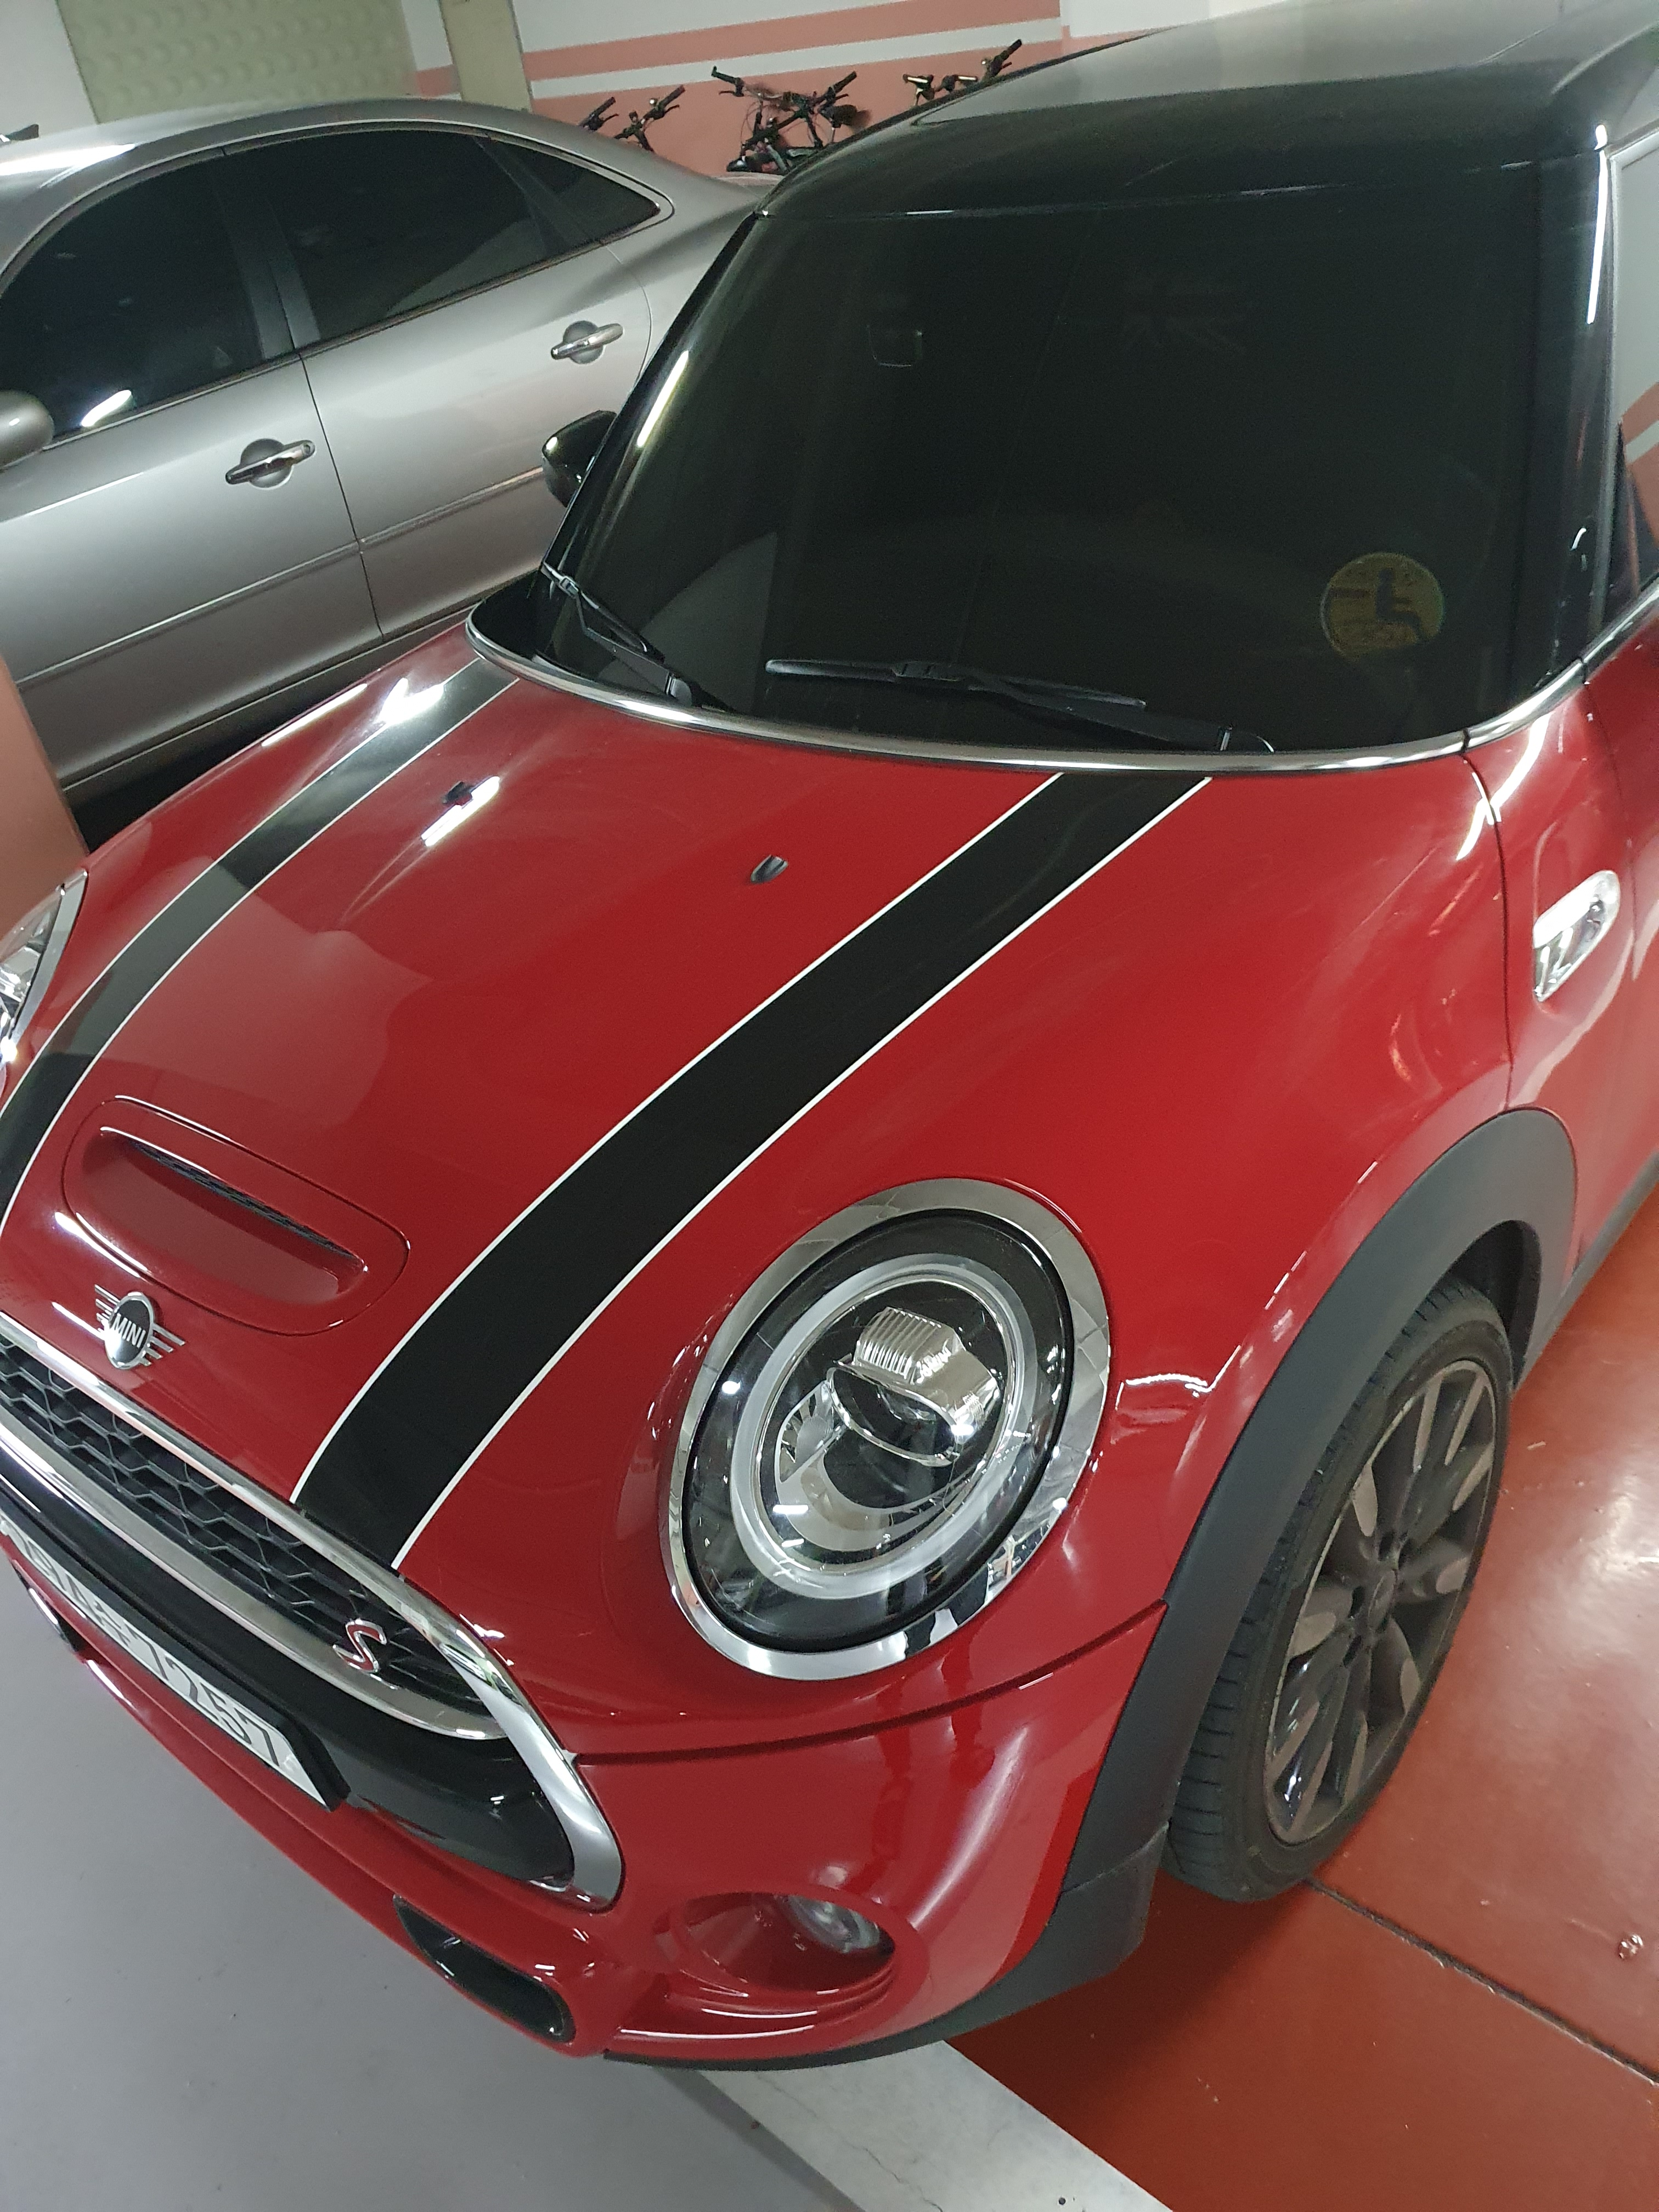disabled_parking: (1319, 545, 1457, 662)
